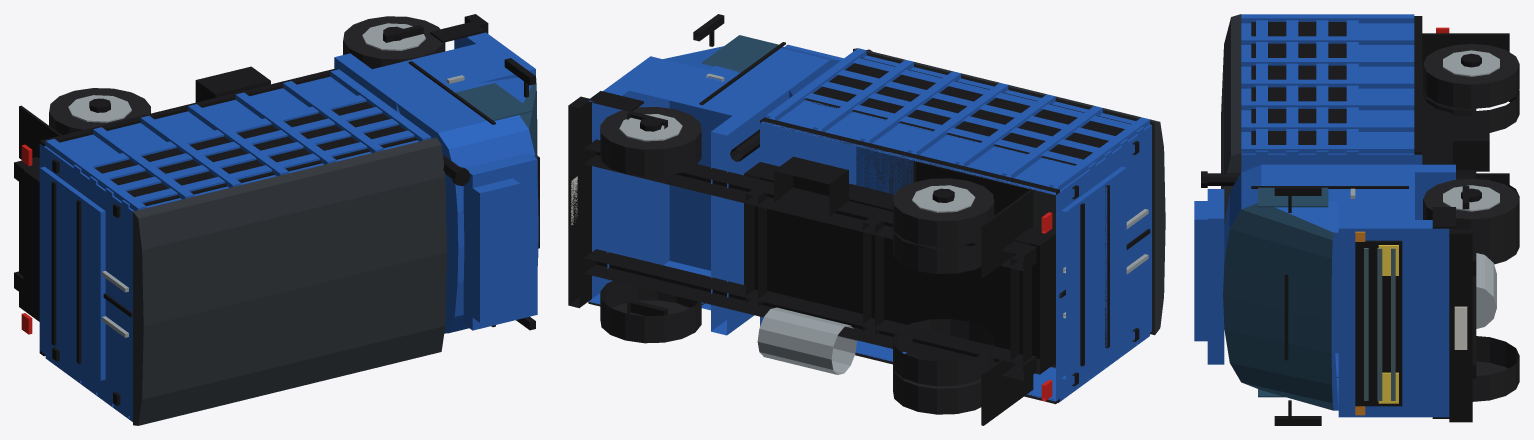
3 views of the same model, side by side, from view 1: azimuth 30°, elevation 25°; view 2: azimuth 150°, elevation 25°; view 3: azimuth 270°, elevation 25° (orthographic). The views are drawn at different scales.
Visible parts, largest first — view 1: default_roof, default_body, default_ramp, default_cab_upper, default_air_dam_top, default_side1_-3.45_2.70_black, default_air_dam, default_cab_arch, default_front1, default_rear_out1, default_subframe, default_side1_-3.60_3.15_cc1 (+19 smaller); view 2: default_body, default_subframe, default_cab_arch, default_chassis-1, default_ramp, default_cab_front, default_side1_-3.45_2.70_black, default_cab_back, default_chassis1, default_roof, default_front1, default_rear_out1 (+30 smaller); view 3: default_cab_upper, default_cab_front, default_body, default_side1_-3.45_2.70_black, default_rear_out1, default_grille, default_front1, default_bumper, default_cab_arch, default_roof, default_air_dam, default_front-1 (+35 smaller).
Part boxes in pixels (x1=…): default_roof: x1=133, y1=137, x2=446, y2=425; default_body: x1=39, y1=76, x2=418, y2=418; default_ramp: x1=40, y1=166, x2=105, y2=380; default_cab_upper: x1=397, y1=77, x2=538, y2=333; default_air_dam_top: x1=472, y1=178, x2=519, y2=322; default_side1_-3.45_2.70_black: x1=95, y1=101, x2=417, y2=205; default_air_dam: x1=463, y1=153, x2=537, y2=330; default_cab_arch: x1=372, y1=44, x2=516, y2=98; default_front1: x1=343, y1=16, x2=445, y2=69; default_rear_out1: x1=49, y1=88, x2=150, y2=134; default_subframe: x1=23, y1=166, x2=39, y2=311; default_side1_-3.60_3.15_cc1: x1=89, y1=107, x2=382, y2=184; default_body: x1=760, y1=55, x2=1151, y2=401; default_subframe: x1=744, y1=162, x2=1055, y2=374; default_cab_arch: x1=629, y1=61, x2=772, y2=310; default_chassis-1: x1=583, y1=249, x2=1036, y2=380; default_ramp: x1=1061, y1=166, x2=1126, y2=379; default_cab_front: x1=588, y1=56, x2=669, y2=304; default_side1_-3.45_2.70_black: x1=805, y1=58, x2=1131, y2=165; default_cab_back: x1=711, y1=86, x2=789, y2=335; default_chassis1: x1=583, y1=139, x2=1036, y2=271; default_roof: x1=853, y1=48, x2=1165, y2=335; default_front1: x1=600, y1=107, x2=701, y2=176; default_rear_out1: x1=893, y1=178, x2=994, y2=246; default_cab_upper: x1=1223, y1=164, x2=1338, y2=410; default_cab_front: x1=1338, y1=220, x2=1449, y2=417; default_body: x1=1241, y1=23, x2=1422, y2=349; default_side1_-3.45_2.70_black: x1=1251, y1=22, x2=1346, y2=144; default_rear_out1: x1=1423, y1=44, x2=1519, y2=108; default_grille: x1=1355, y1=240, x2=1402, y2=406; default_front1: x1=1423, y1=178, x2=1519, y2=244; default_bumper: x1=1449, y1=228, x2=1472, y2=422; default_cab_arch: x1=1338, y1=172, x2=1414, y2=219; default_roof: x1=1221, y1=14, x2=1241, y2=224; default_air_dam: x1=1207, y1=189, x2=1224, y2=364; default_front-1: x1=1472, y1=336, x2=1519, y2=401.
Bounding box in the file's own units: 7.62 × 3.9 × 4.85.
